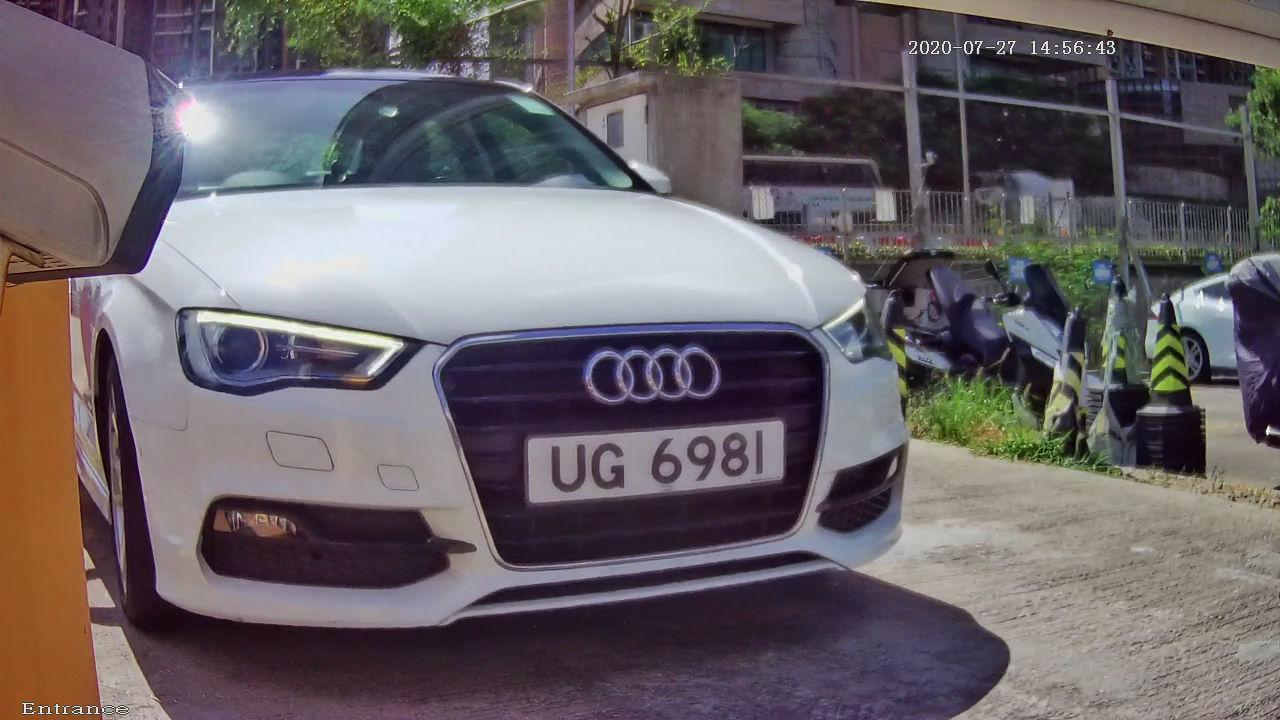privatecar: (63, 39, 938, 653)
